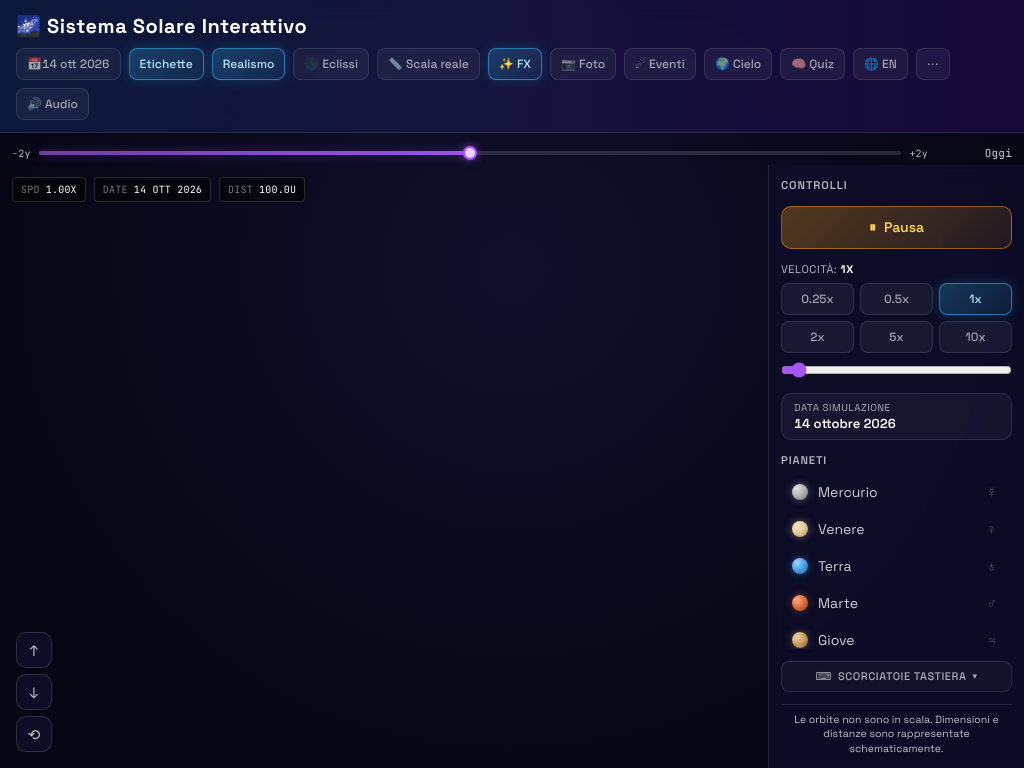
Test: Flusso: quiz mode a punteggio completo › una risposta errata non blocca il flusso del quiz
What coordinates should you click on to do the following:
click the button "🧠 Quiz"
I would click on:
 (813, 64)
Its box is [780,48,845,80].
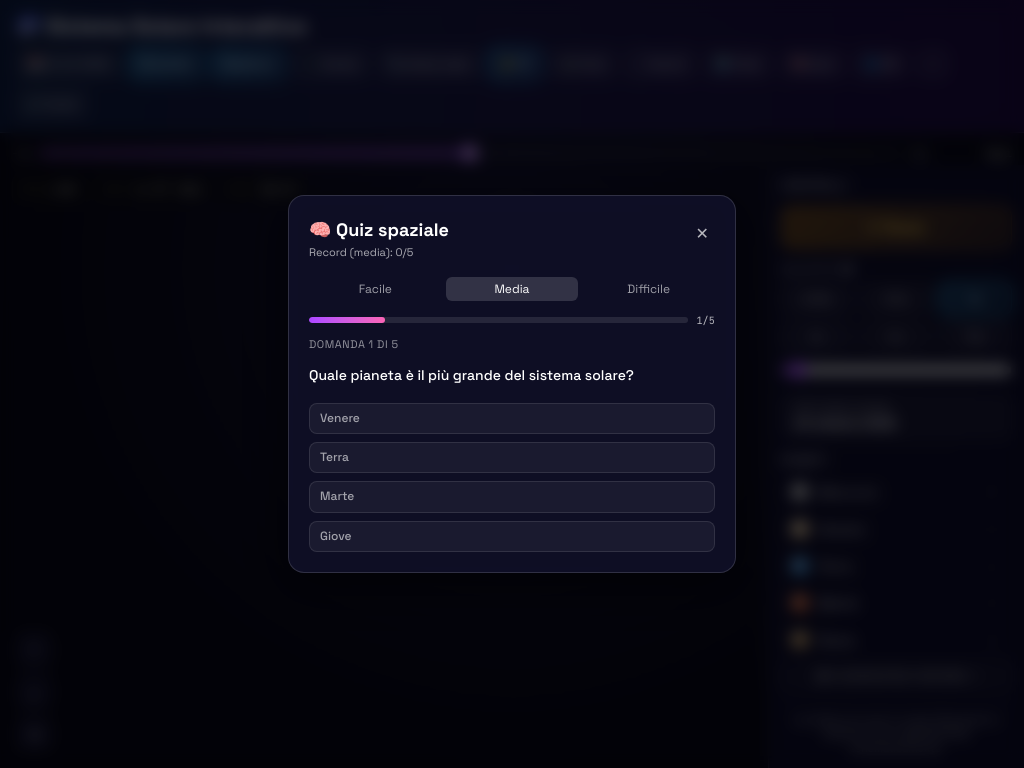
What coordinates should you click on to do the following:
click the button with test id "quiz-option" showing "Venere"
I would click on:
 (340, 418)
Its box is [309,403,715,434].
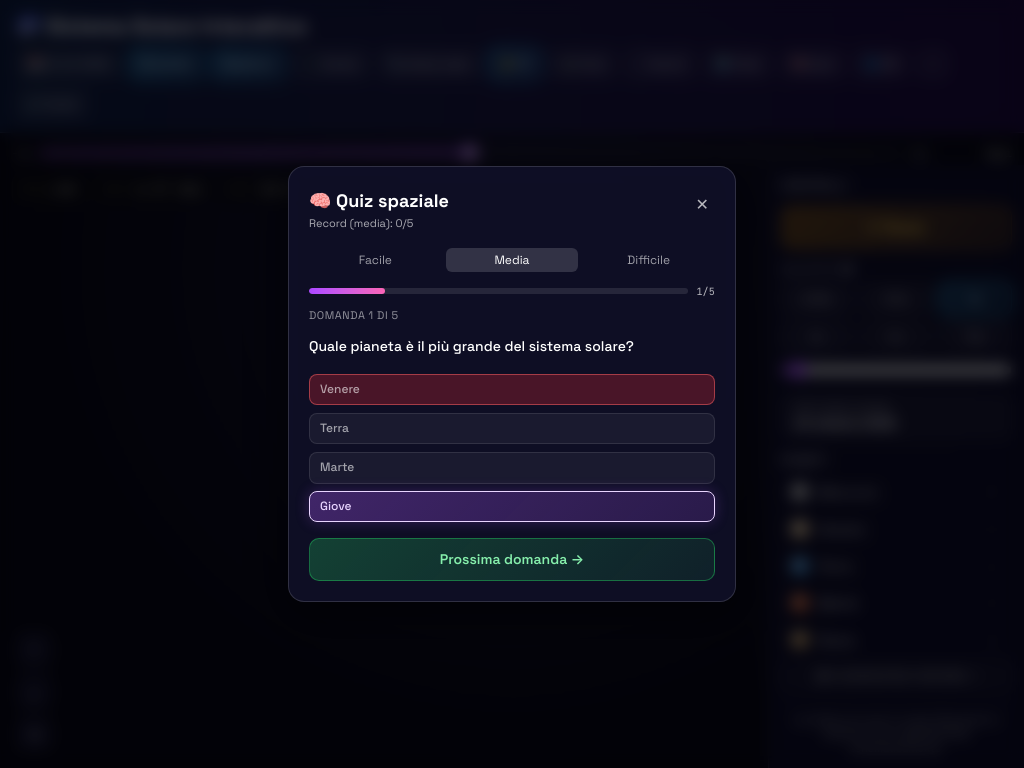
Note: ma si può andare avanti comunque
What coordinates should you click on to do the following:
click the button "Prossima domanda →"
I would click on:
 (512, 560)
Its box is [309,538,715,581].
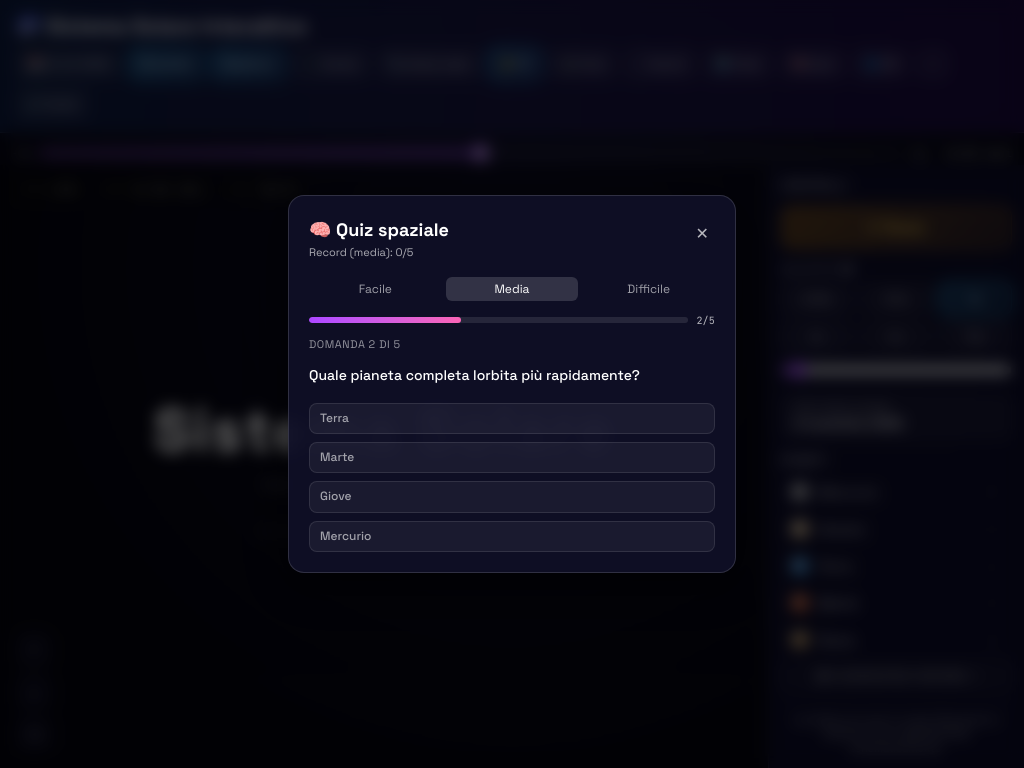
Now the dialog named "Quiz sul sistema solare" shows "Domanda 2 di", box [309,337,401,351]
